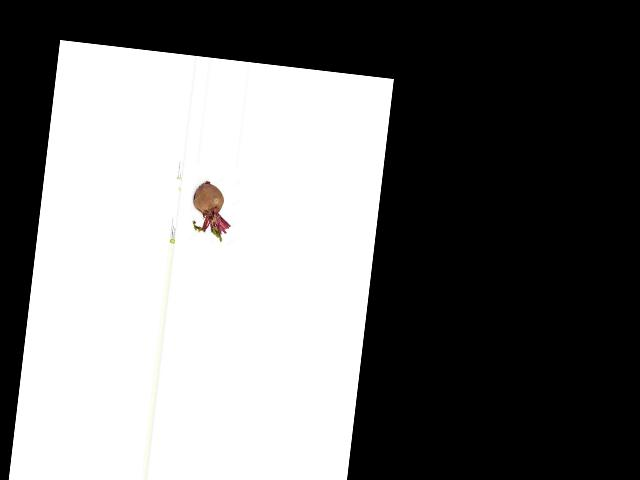beet: (189, 179, 235, 242)
